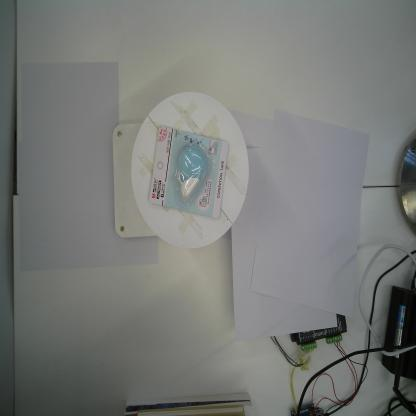Stationery: (148, 126, 229, 218)
